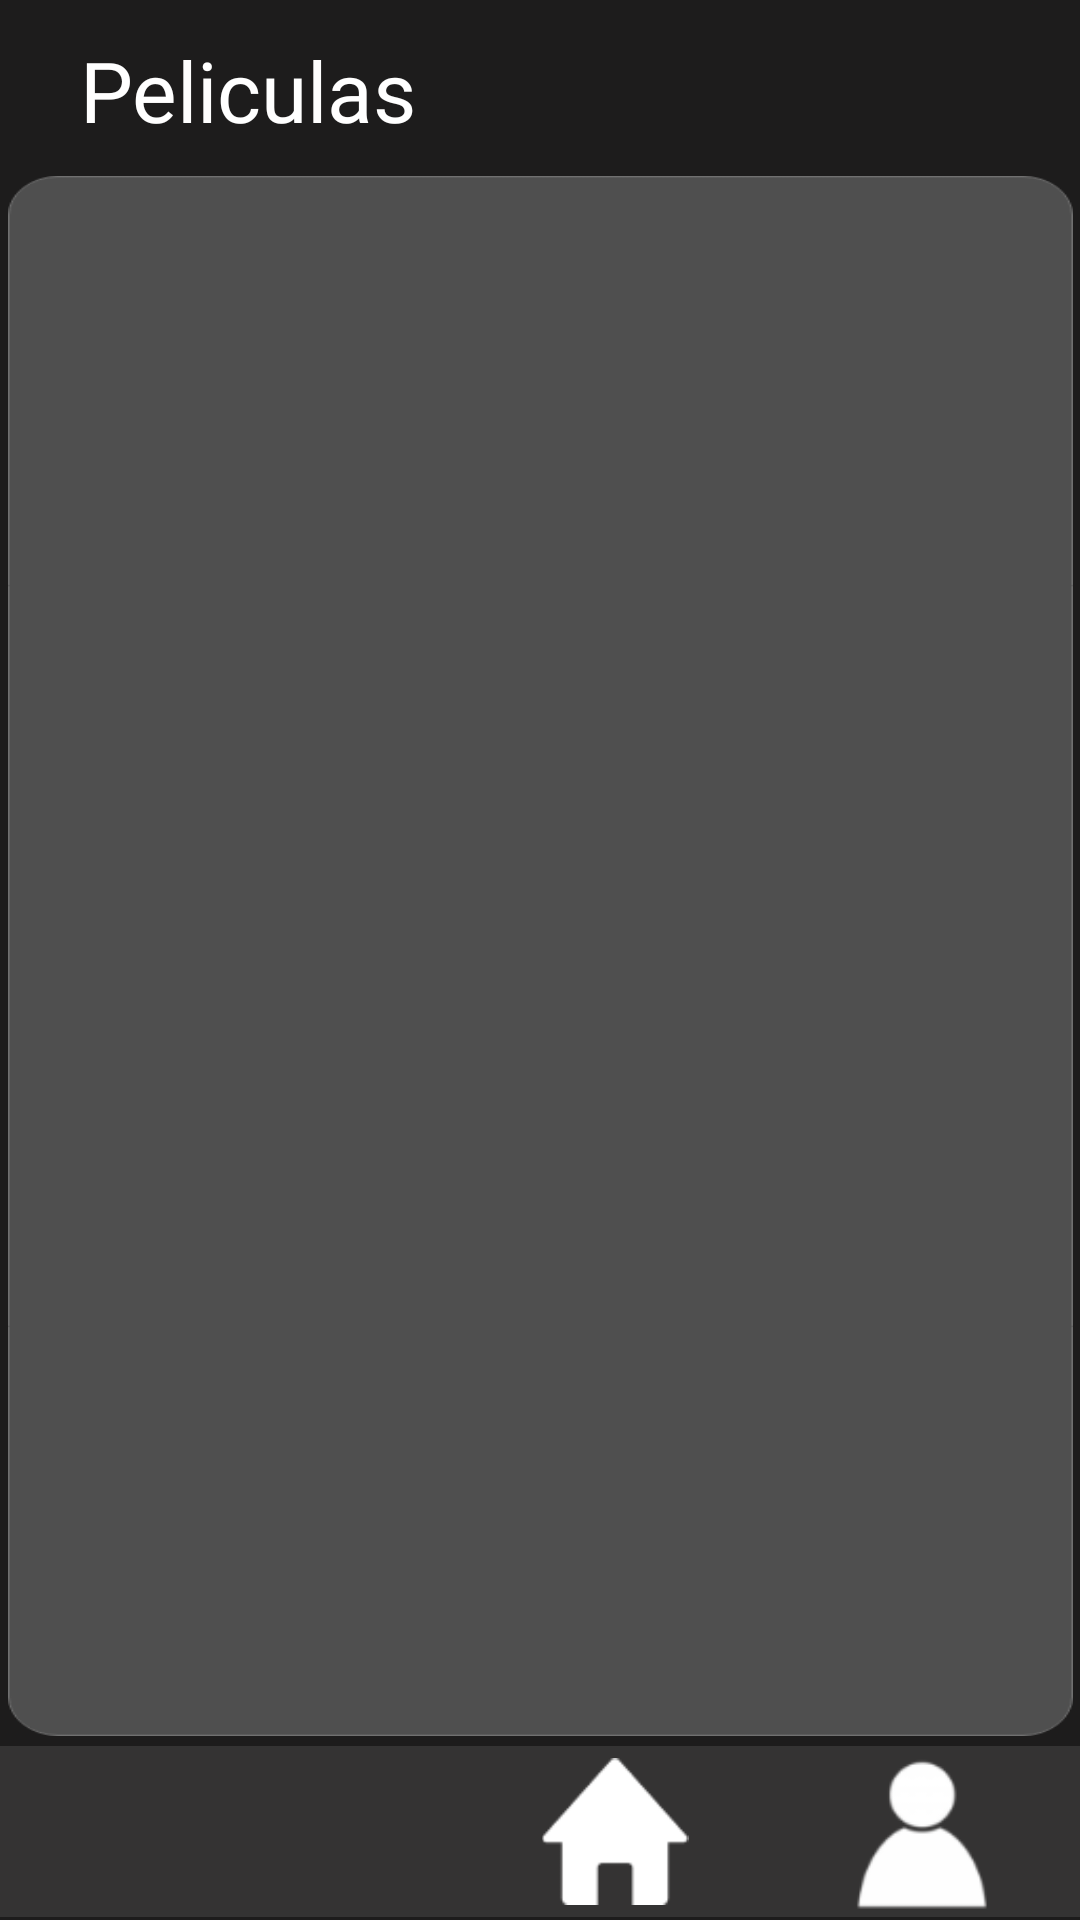

Where to tap for icons on this 1080x1920 app screen, as point (x, y):
casa: point (615, 1831)
usuario: point (922, 1835)
